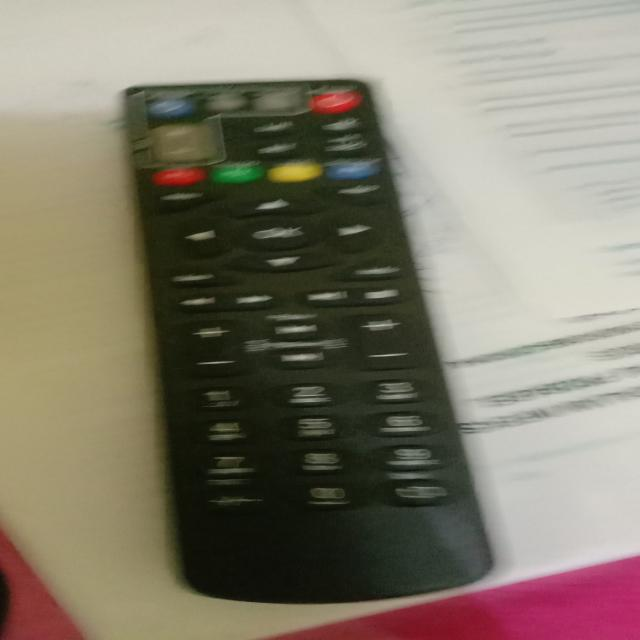remote: (118, 71, 521, 589)
